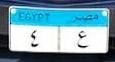4: (29, 28, 42, 50)
ain: (75, 29, 92, 50)
